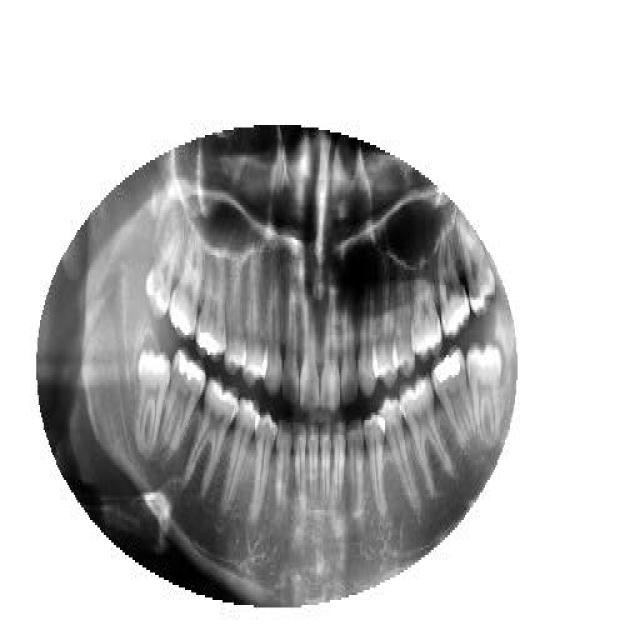Fillings: (161, 348, 205, 458), (432, 350, 477, 445), (168, 235, 204, 343), (198, 245, 226, 360)
